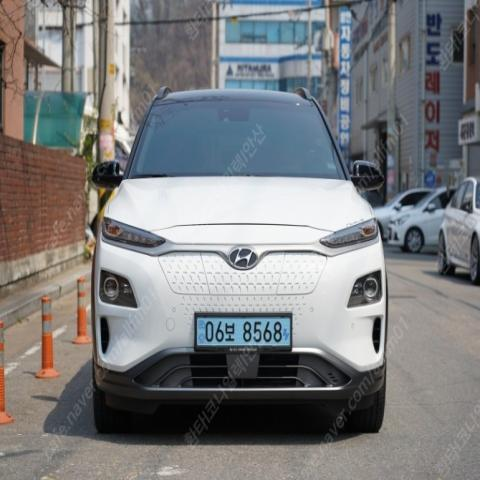LP: (192, 306, 296, 357)
